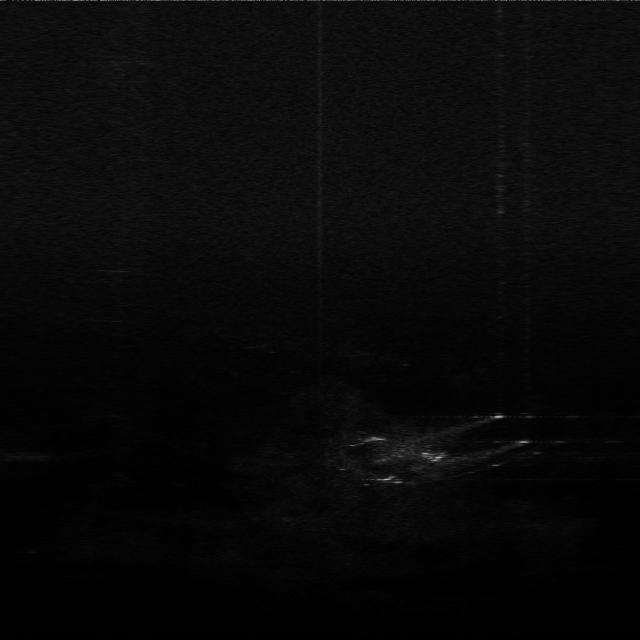rov: (418, 447, 447, 464)
